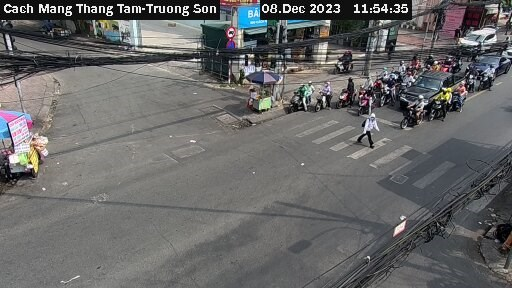car: (398, 69, 461, 109), (464, 47, 509, 80), (458, 25, 493, 55)
motorbike: (288, 82, 312, 110), (315, 82, 332, 111), (337, 80, 356, 105), (403, 99, 419, 127), (477, 66, 495, 90), (452, 83, 467, 108), (359, 90, 373, 115), (432, 95, 447, 118), (465, 71, 478, 92)
